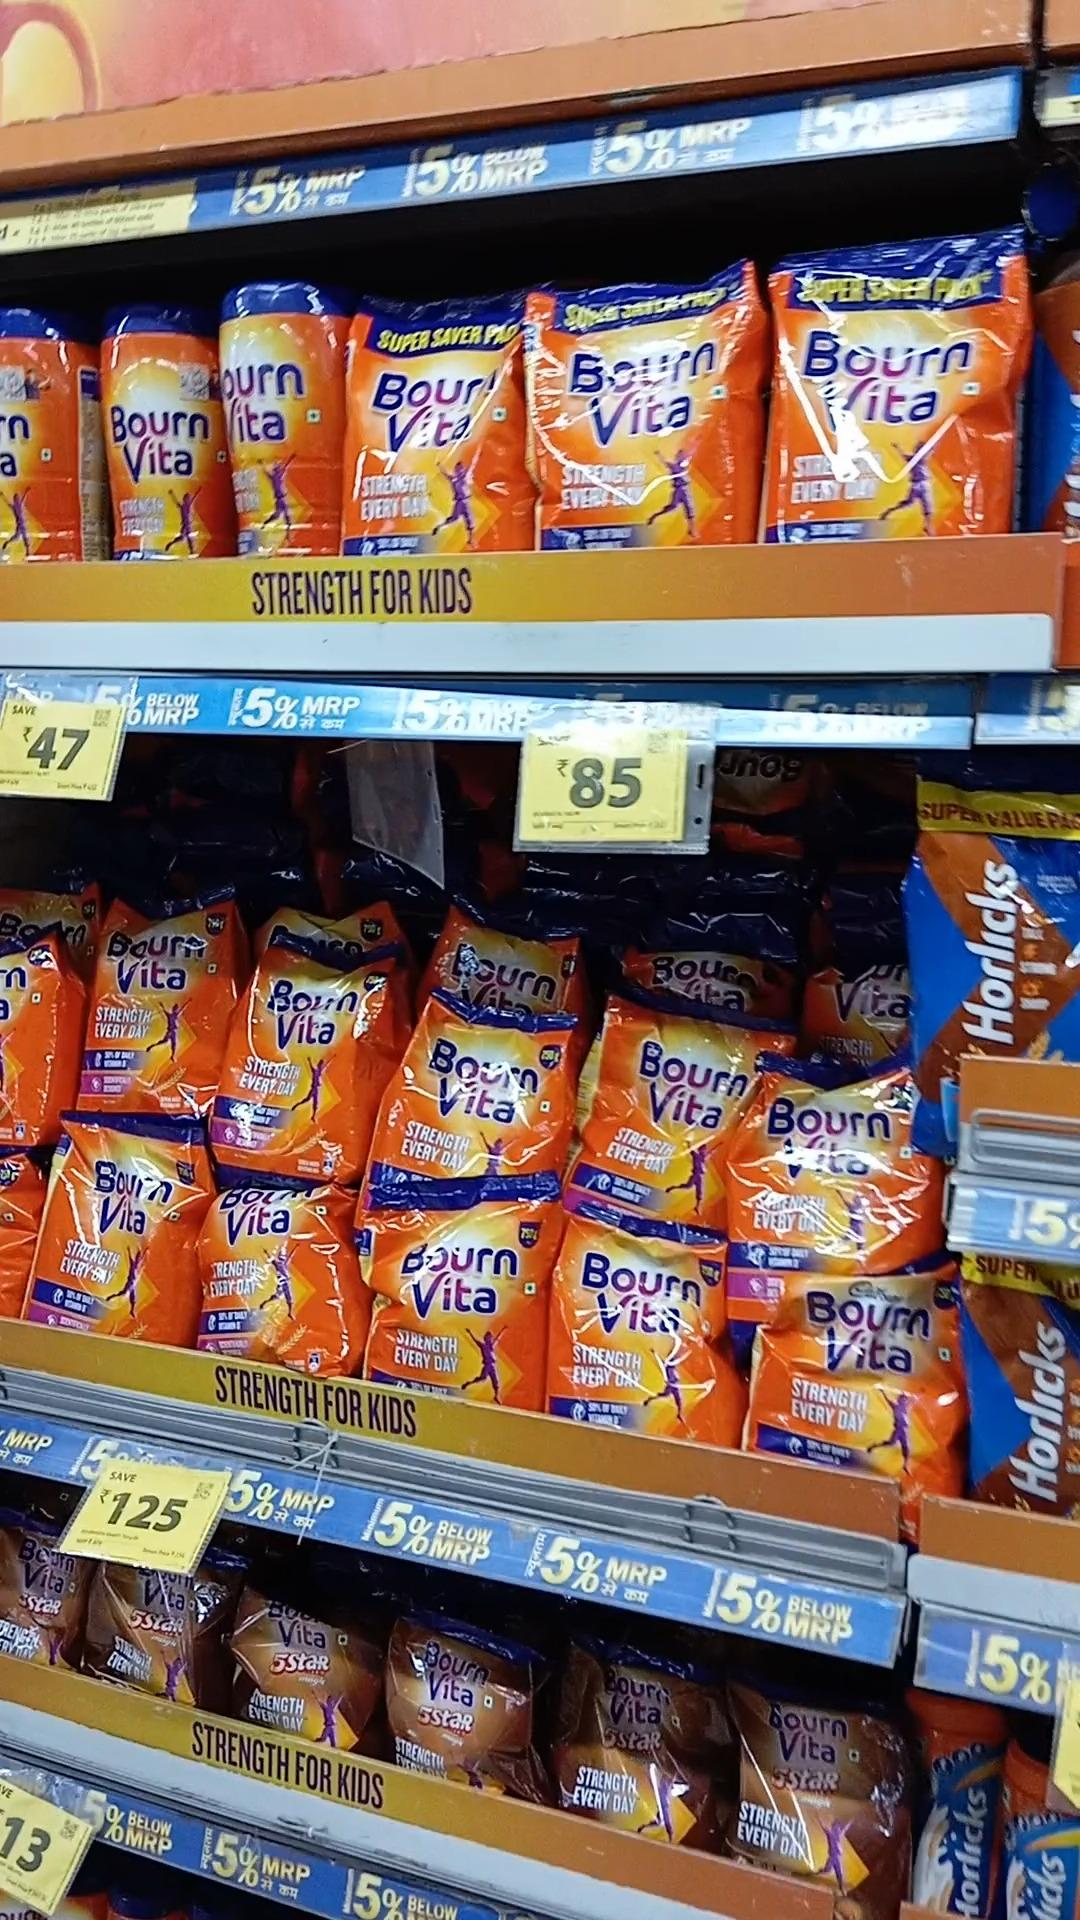BOURN_VITA_1_KG_JAR: (220, 280, 334, 556), (96, 305, 214, 560)
BOURN_VITA_750_G_POUCH: (373, 1182, 549, 1410), (560, 1218, 735, 1447), (748, 1060, 940, 1266), (783, 1265, 957, 1489), (583, 993, 746, 1229), (54, 1114, 199, 1340), (400, 997, 570, 1185), (235, 936, 367, 1178), (82, 906, 229, 1109), (203, 1180, 342, 1369)
BOURN_VITA_FIVE_STAR_MAGIC_500_G_POUCH: (737, 1701, 910, 1905), (560, 1650, 725, 1846), (386, 1618, 533, 1788), (236, 1575, 377, 1747), (80, 1555, 212, 1697)
HORLICK_CHOCOLATE_750_G_POUCH: (909, 760, 1077, 1075), (965, 1251, 1079, 1522)
